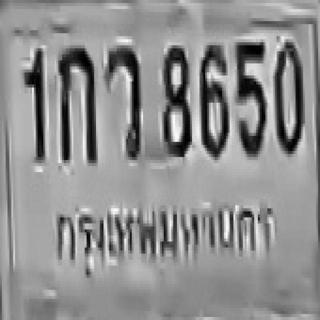A01: (56, 42, 94, 160)
A37: (104, 42, 139, 157)
N00: (273, 39, 301, 151)
N01: (22, 45, 42, 157)
N05: (233, 39, 266, 154)
N06: (198, 42, 228, 157)
N08: (161, 42, 189, 154)
P04: (52, 191, 280, 285)
